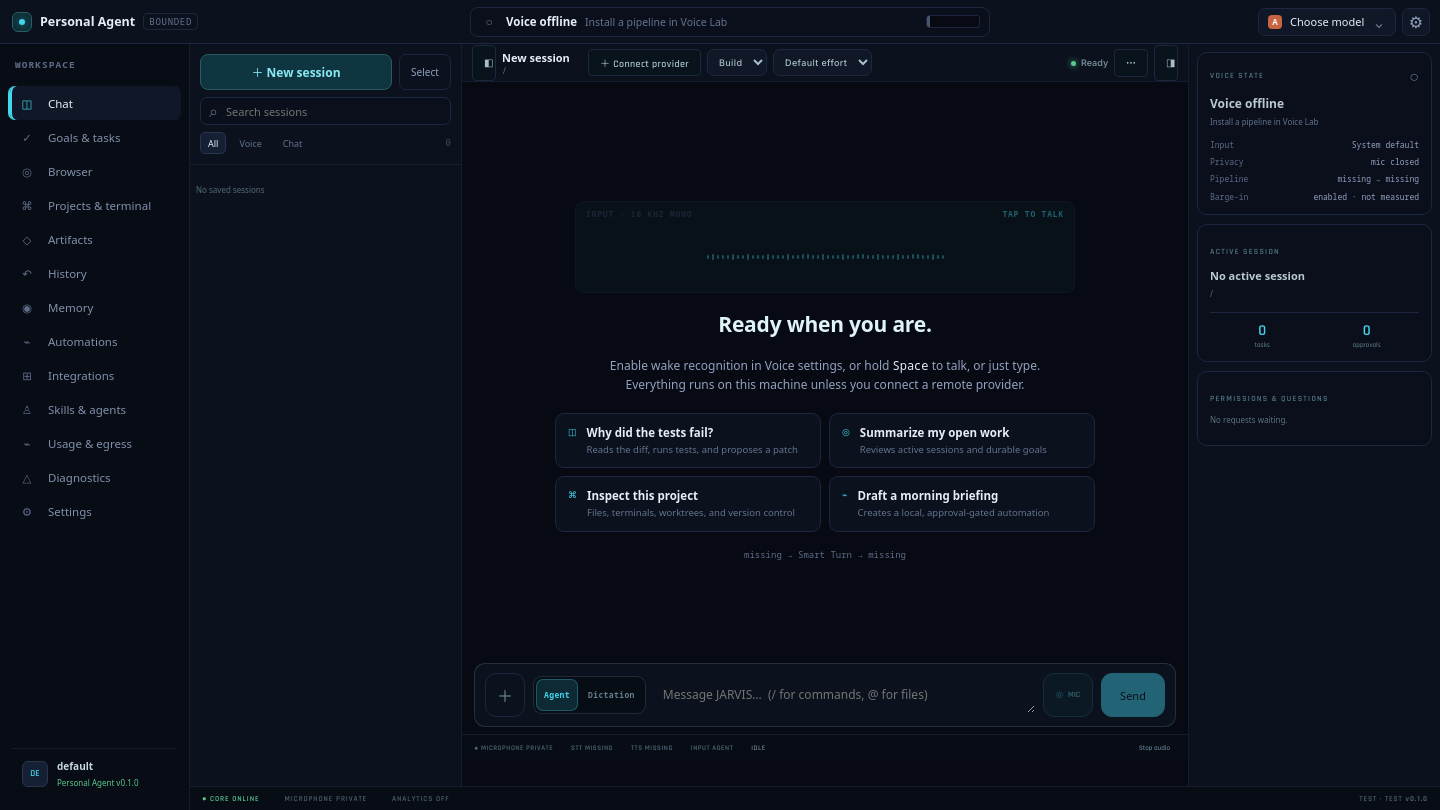
Test: desktop workspace › hides tool details and the reasoning indicator when the settings are off
The image size is (1440, 810).
Type "Search the repo" into the text box labelled "Message JARVIS" at (844, 695), box [654, 678, 1035, 712]
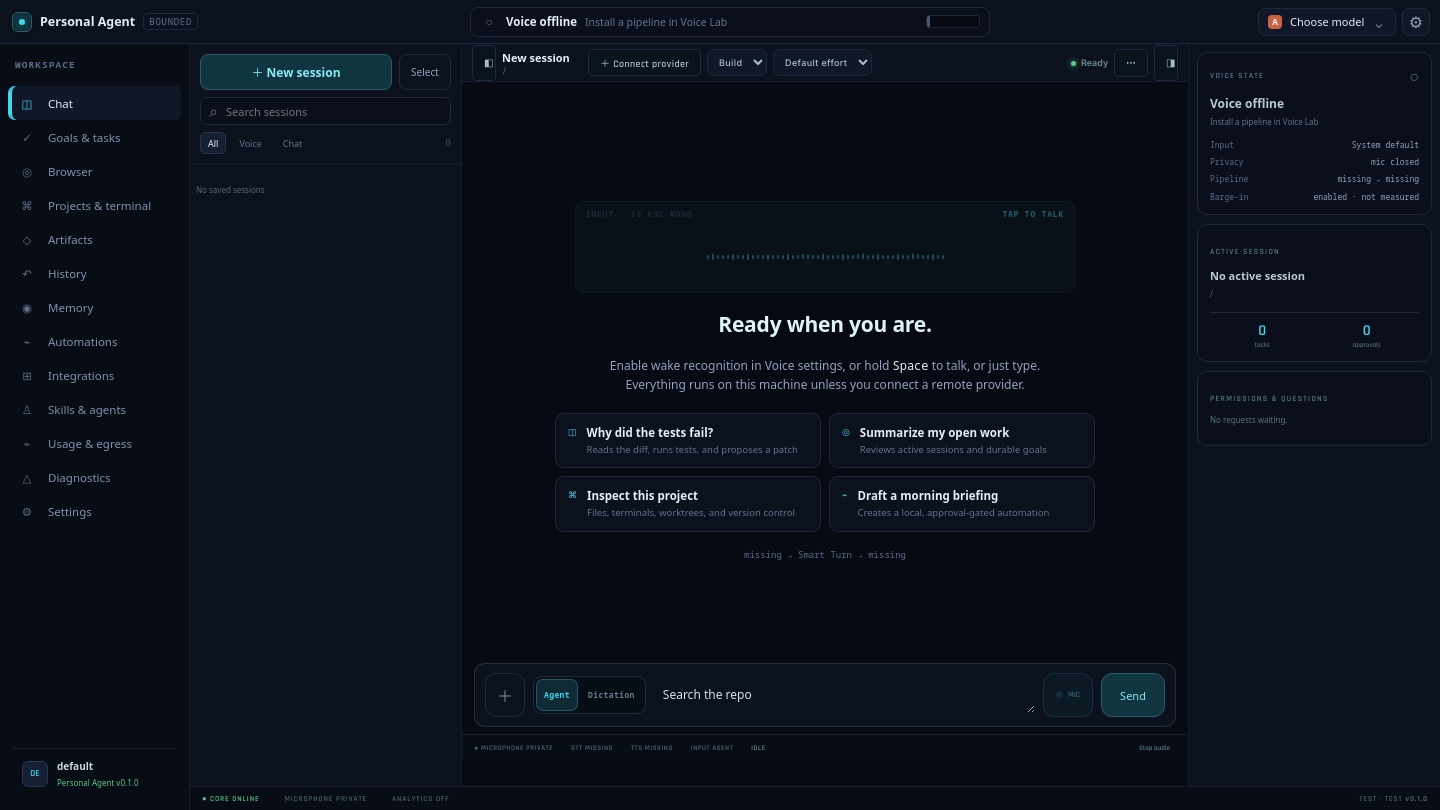
Click the button named "↑" at (1133, 695), box [1101, 673, 1165, 717]
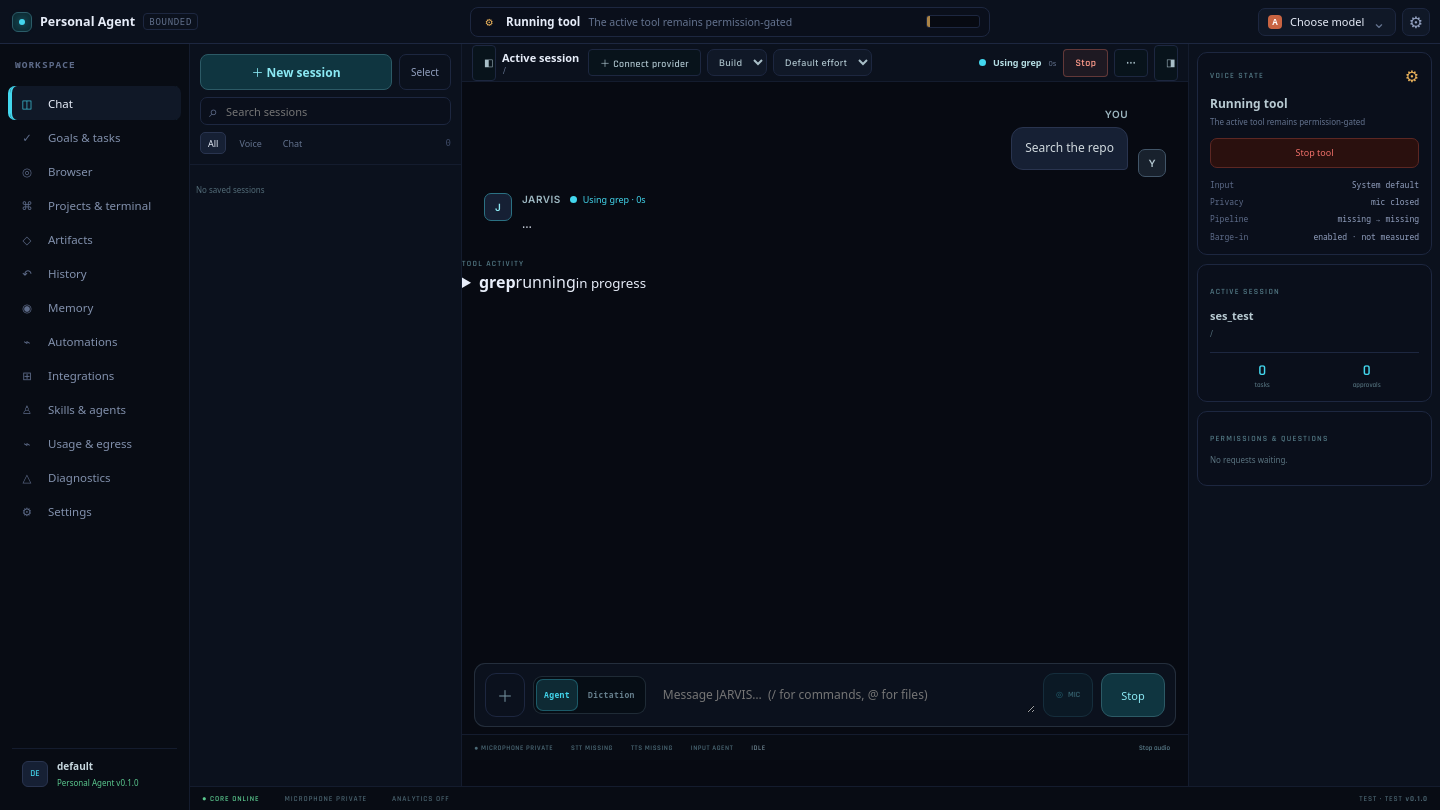
Expected: the text "grep" is shown, [479, 271, 516, 293]
